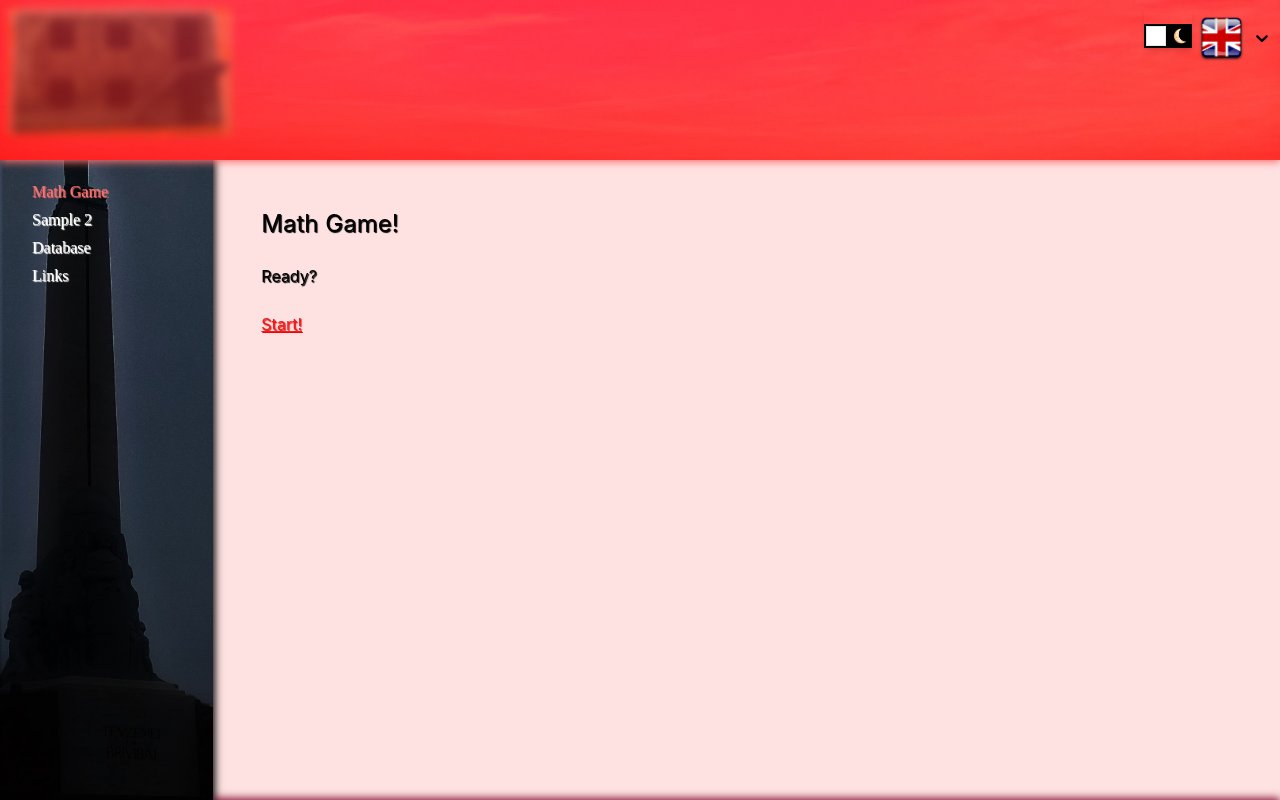
Scenario: MathGame › Rendering › should render elements correctly
Click the button "Start!": coordinates (282, 324) [261,312,302,336]
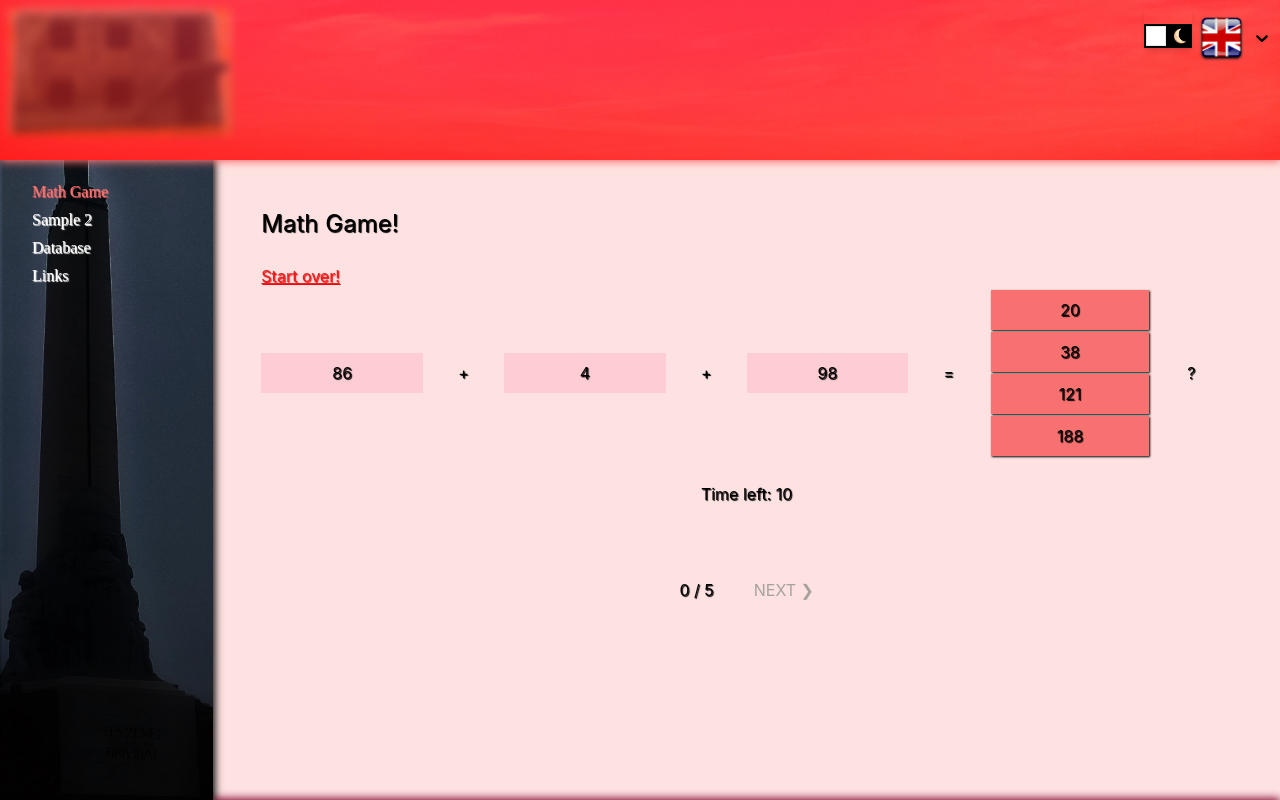
Expected: the heading "Math Game!" is shown, [261,209,399,238]
Expected: the button "NEXT ❯" is shown, [754,578,814,602]
Expected: the button "Start over!" is shown, [261,264,340,288]
